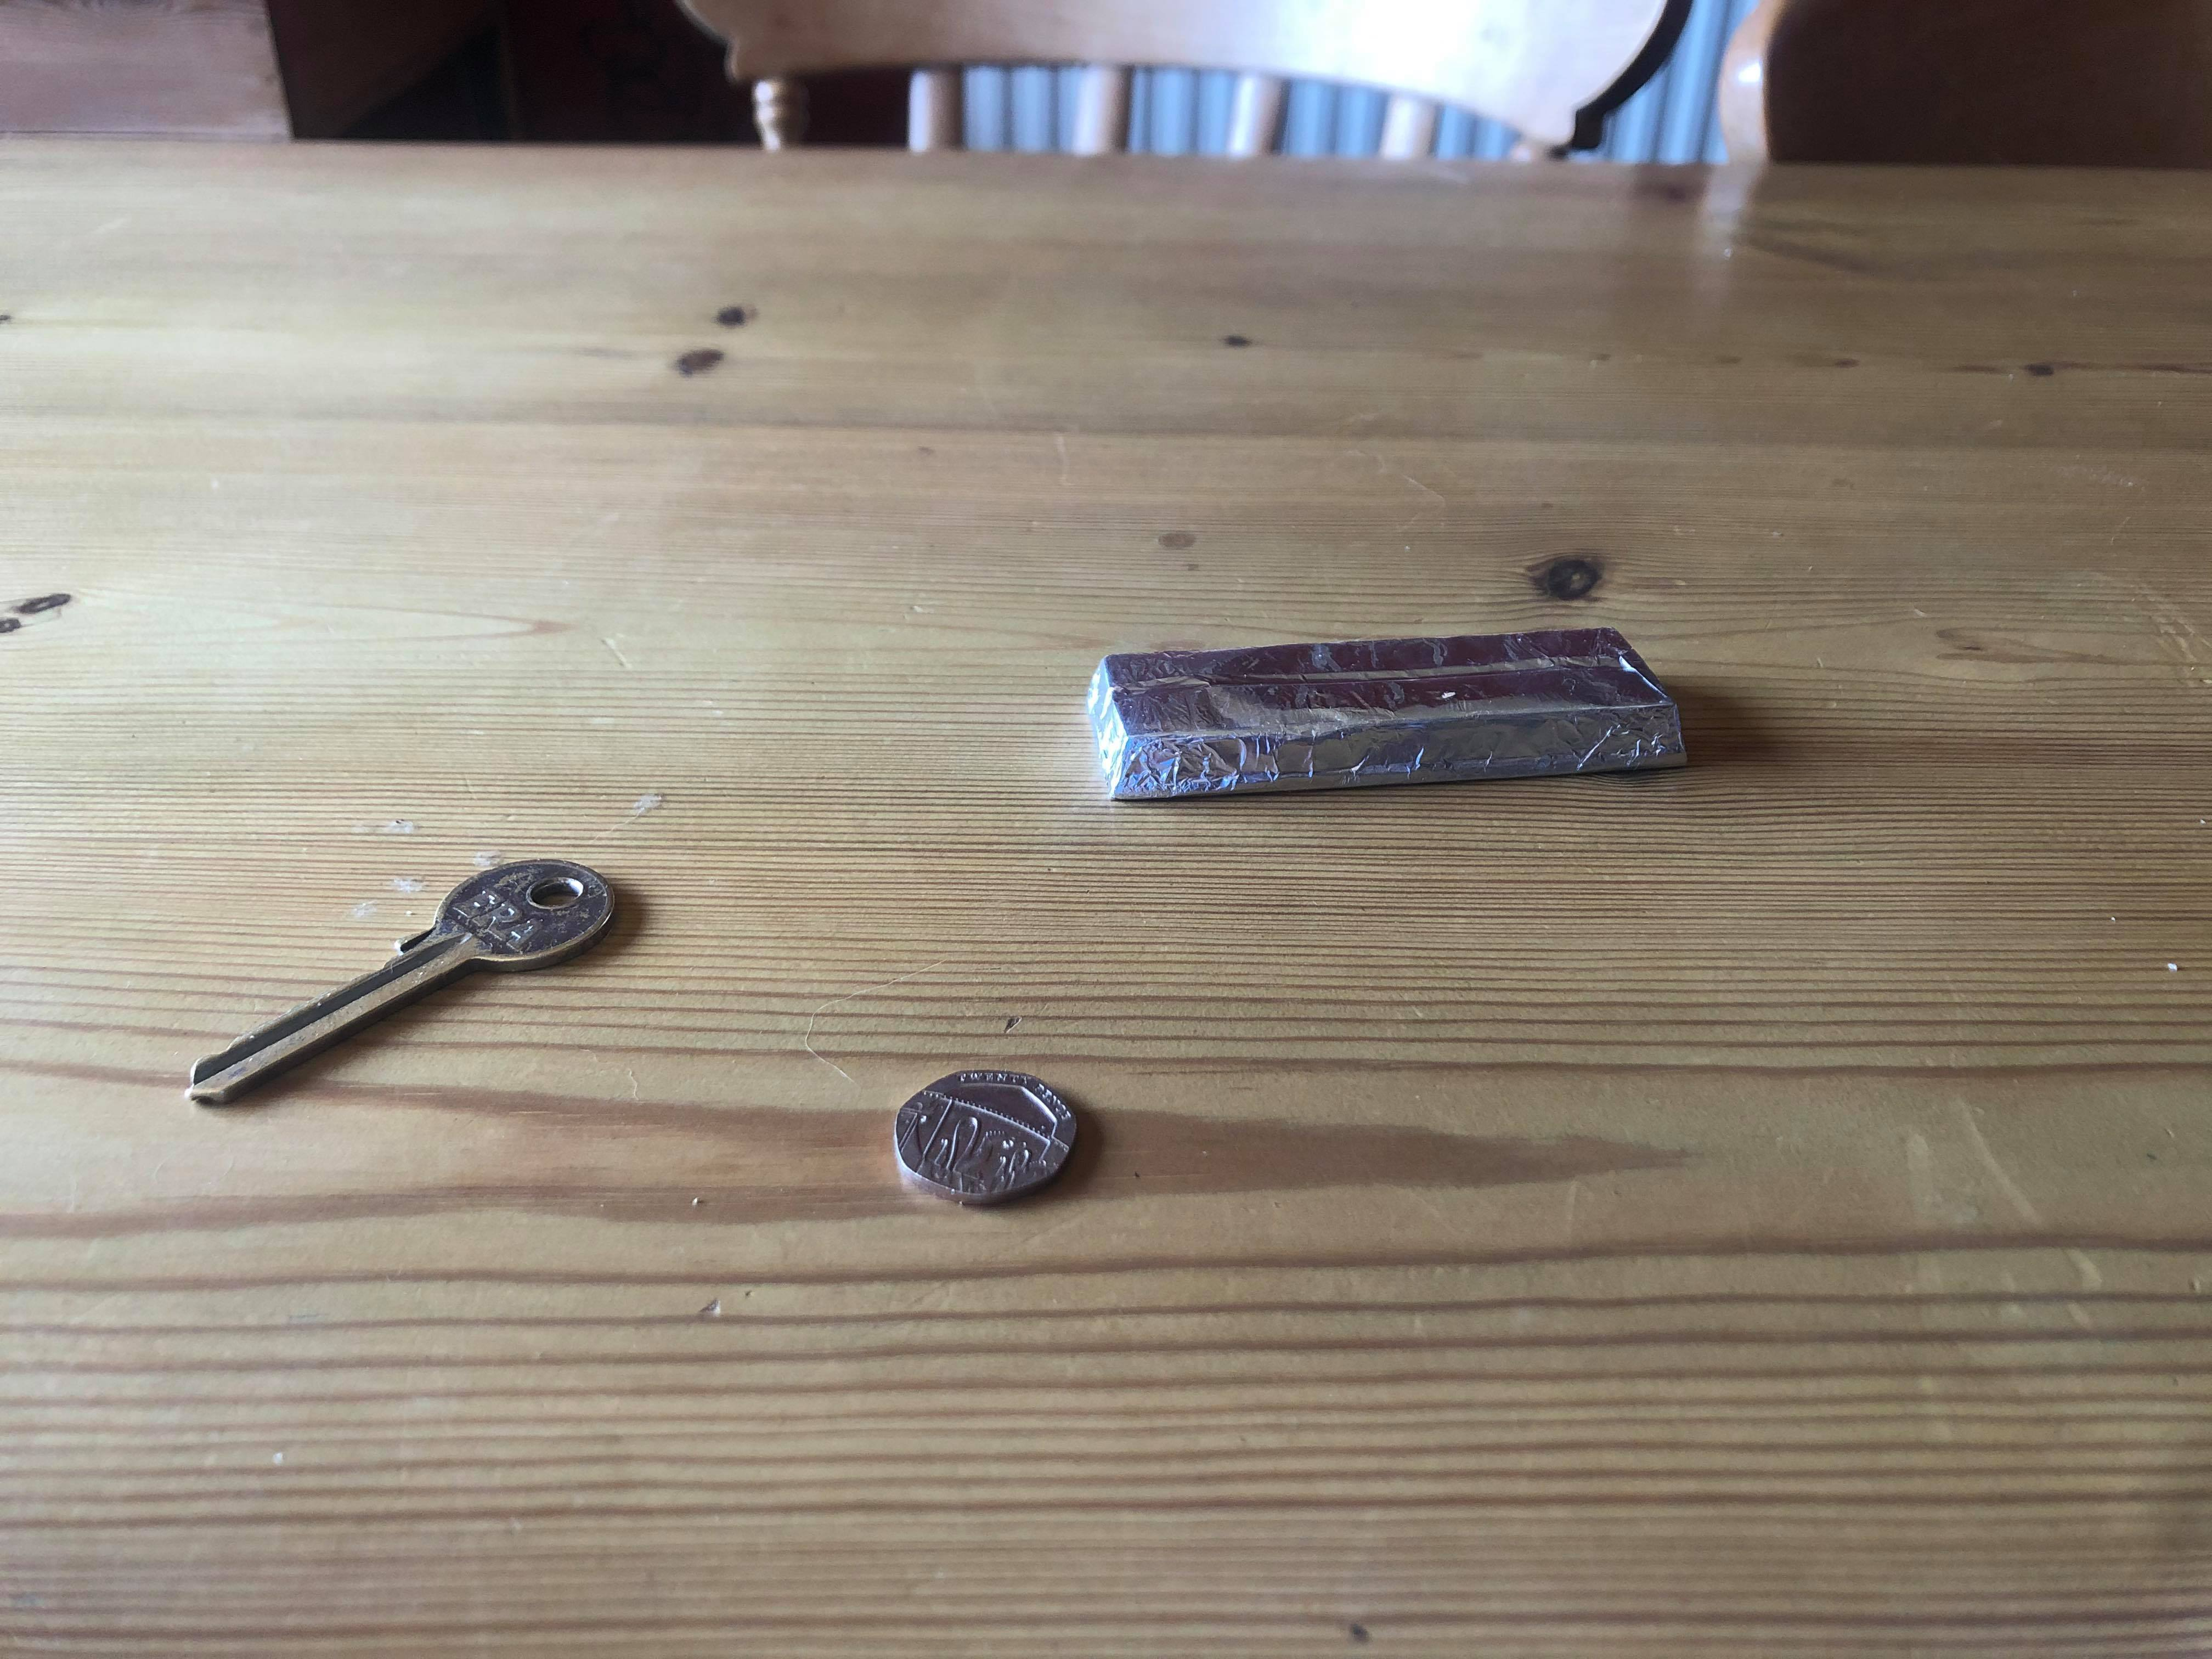Coin: (885, 1061, 1080, 1216)
Foil: (1076, 620, 1698, 814)
Key: (171, 854, 627, 1110)
